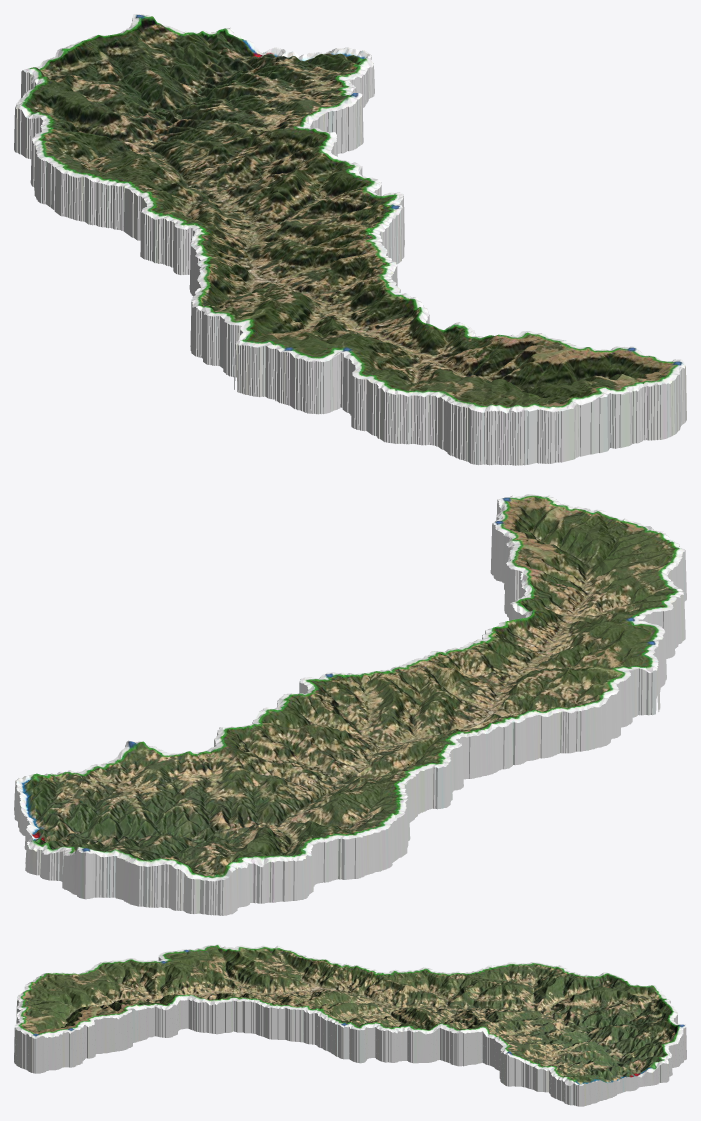
3 renders of one model, top to bottom at view 1: azimuth 30°, elevation 25°; view 2: azimuth 150°, elevation 25°; view 3: azimuth 270°, elevation 25°, orthographic. The views are drawn at different scales.
Size of the model in its own units: 1 by 0.1313 by 2.16.
Materials: 1 (1 with a texture image).
